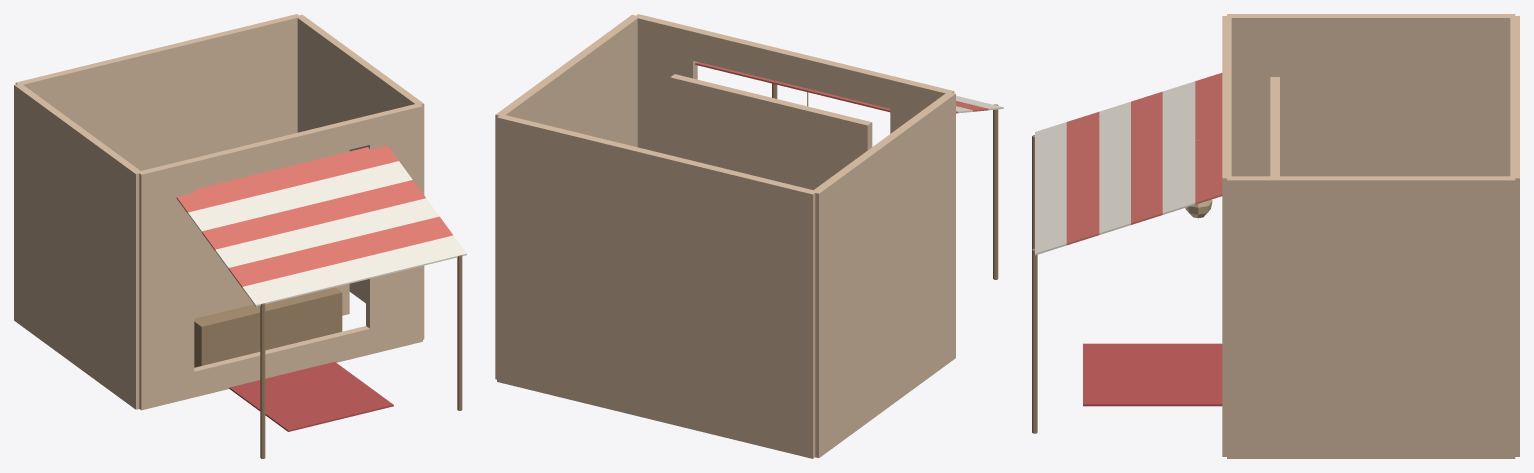
File: Shop_MiddleEast.fbx
The picture shows the model from 3 angles, left to right: view 1: azimuth 30°, elevation 25°; view 2: azimuth 150°, elevation 25°; view 3: azimuth 270°, elevation 25°; orthographic projection. The views are drawn at different scales.
Visible parts, largest first — view 1: Shop_MiddleEast_Mesh; view 2: Shop_MiddleEast_Mesh; view 3: Shop_MiddleEast_Mesh.
Part boxes in pixels (x1=…): Shop_MiddleEast_Mesh: x1=14, y1=14, x2=466, y2=458; Shop_MiddleEast_Mesh: x1=495, y1=14, x2=1003, y2=458; Shop_MiddleEast_Mesh: x1=1032, y1=14, x2=1519, y2=458.
Size of the model in its own units: 4.1 by 3.2 by 5.08.
